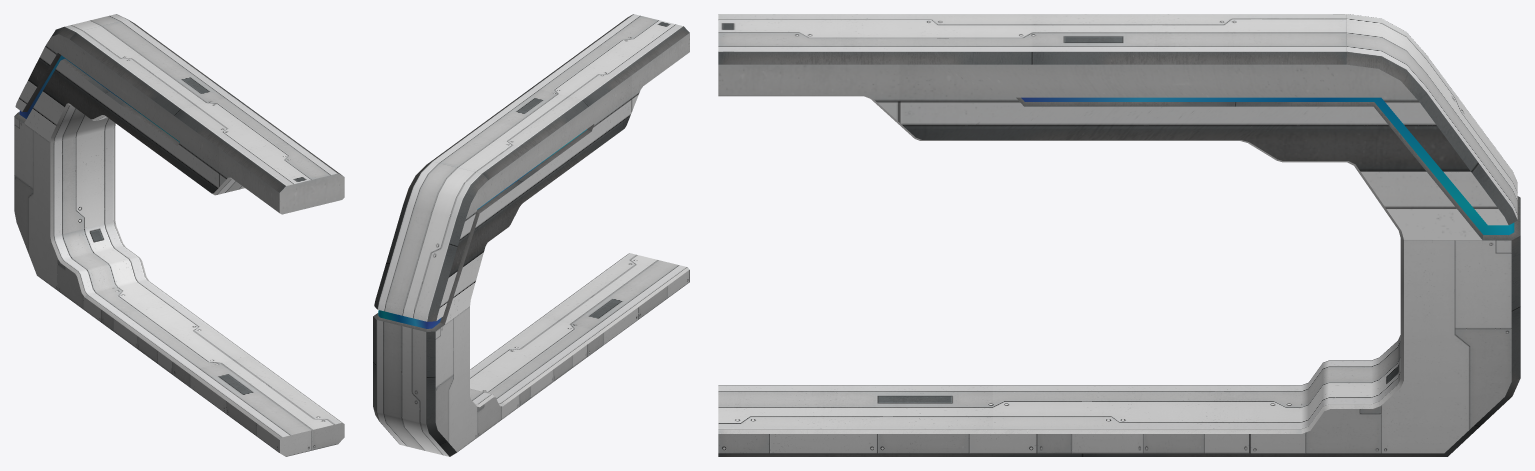
File: Ext_Arch_01.FBX
3 views of the same model, side by side, from view 1: azimuth 30°, elevation 25°; view 2: azimuth 150°, elevation 25°; view 3: azimuth 270°, elevation 25° (orthographic). The views are drawn at different scales.
Parts seen in each view (by area): view 1: Ext_Arch_01; view 2: Ext_Arch_01; view 3: Ext_Arch_01.
Boxes of the visible parts, box(x1,y1,x2,y2) form: Ext_Arch_01: box(14, 14, 344, 456); Ext_Arch_01: box(373, 14, 689, 456); Ext_Arch_01: box(718, 14, 1520, 456).
Bounding box in the file's own units: 227 × 902 × 1619.
